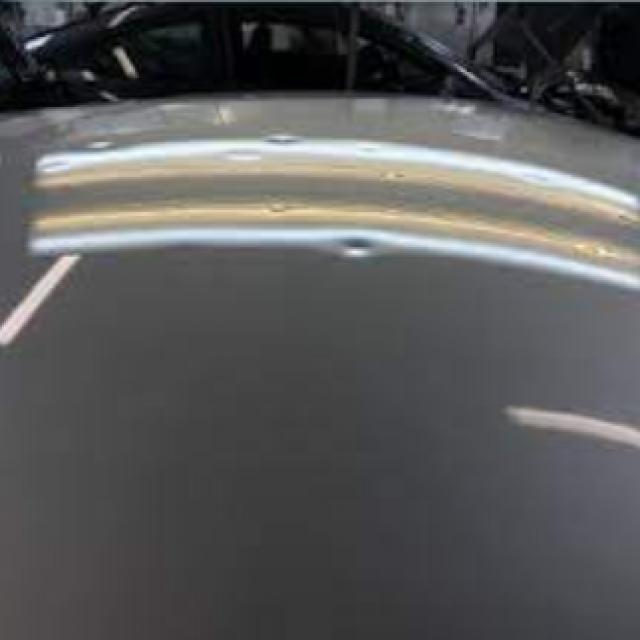dents: (334, 224, 388, 282), (222, 139, 277, 182), (80, 128, 129, 164), (259, 126, 298, 162), (261, 200, 292, 225)
